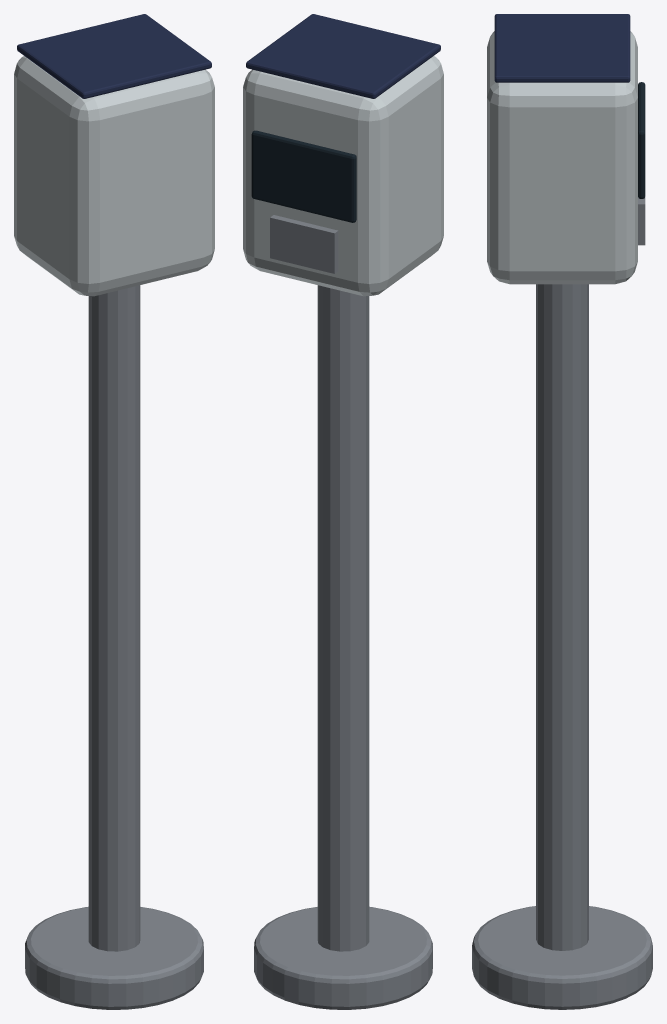
Rendered from parking_meter.glb.
3 renders of one model, left to right at view 1: azimuth 30°, elevation 25°; view 2: azimuth 150°, elevation 25°; view 3: azimuth 270°, elevation 25°, orthographic.
Visible parts, largest first — view 1: parking_meter; view 2: parking_meter; view 3: parking_meter.
Part boxes in pixels (<box>): parking_meter: <box>14,14,214,1009</box>; parking_meter: <box>243,14,443,1009</box>; parking_meter: <box>472,14,652,1009</box>.
Bounding box in the file's own units: 0.24 × 1.36 × 0.24.
